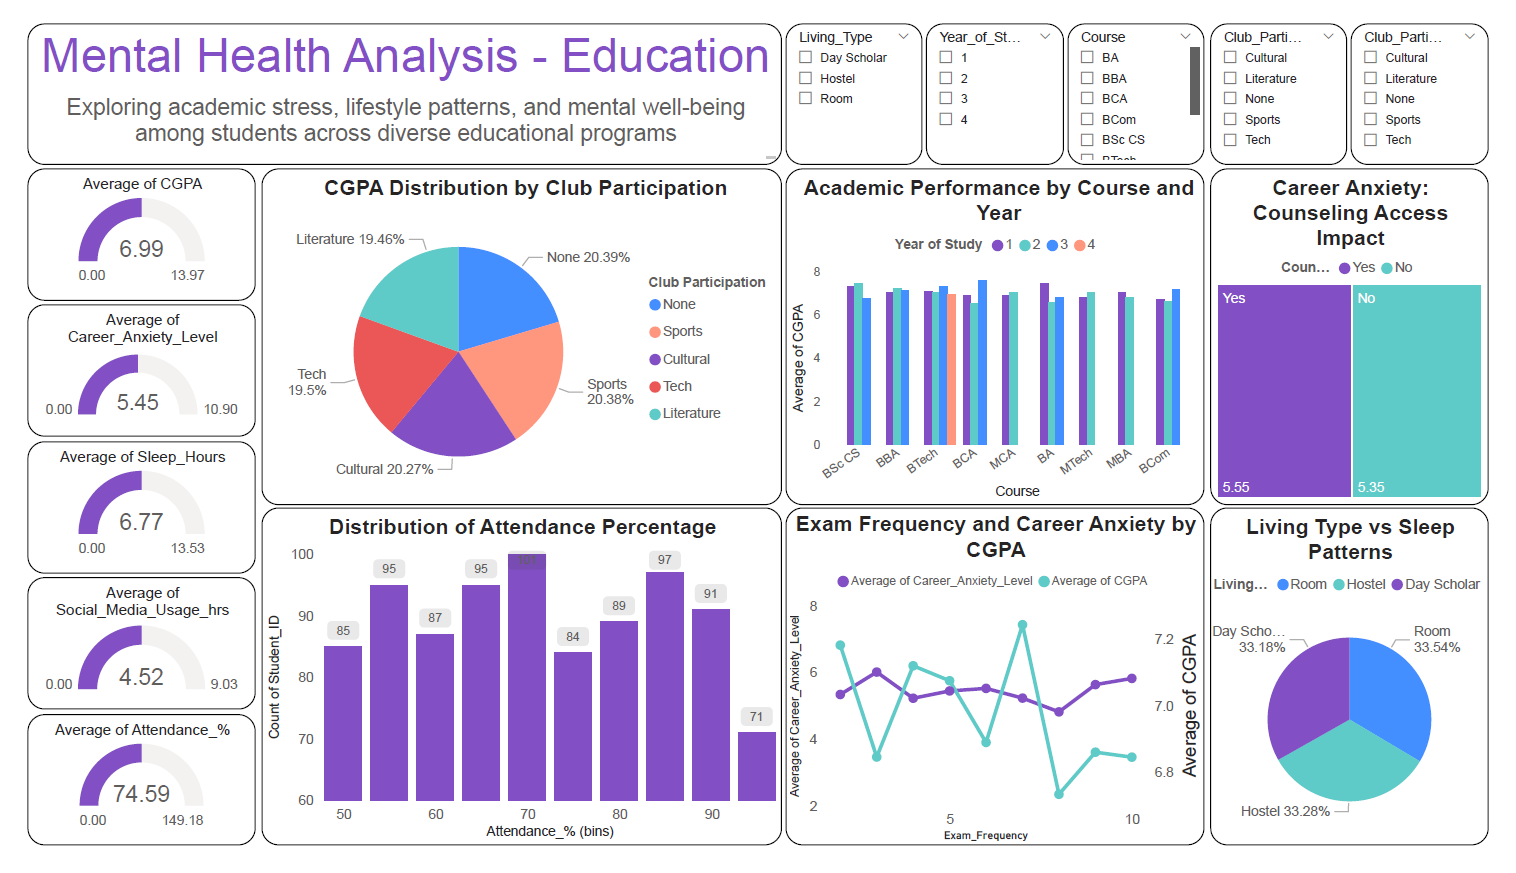

This screenshot's page, from the dashboard's own definition file:
{"tool":"powerbi","page":{"name":"Page 1","canvas":[1280,720],"ordinal":0},"visuals":[{"type":"gauge","fields":{"Y":["Avg(Education_Dataset.CGPA)"]},"box":[0,127,200.3,116],"z":0},{"type":"gauge","fields":{"Y":["Avg(Education_Dataset.Career_Anxiety_Level)"]},"box":[0,246,200.3,116],"z":1000},{"type":"gauge","fields":{"Y":["Avg(Education_Dataset.Sleep_Hours)"]},"box":[0,366,200,116],"z":2000},{"type":"gauge","fields":{"Y":["Avg(Education_Dataset.Social_Media_Usage_hrs)"]},"box":[0,485,200.3,116],"z":3000},{"type":"slicer","fields":{"Values":["Education_Dataset.Course"]},"box":[910.6,0,120.7,124.4],"z":4000},{"type":"slicer","fields":{"Values":["Education_Dataset.Year_of_Study"]},"box":[787.4,0,120.7,124.4],"z":5000},{"type":"slicer","fields":{"Values":["Education_Dataset.Living_Type"]},"box":[664,0,120,124.4],"z":6000},{"type":"textbox","title":"Mental Health Analysis - Education","box":[0,0,660.5,124.4],"z":7000},{"type":"slicer","fields":{"Values":["Education_Dataset.Club_Participation"]},"box":[1036.2,0,119.4,124.4],"z":8000},{"type":"pieChart","title":"CGPA Distribution by Club Participation","fields":{"Category":["Education_Dataset.Club_Participation"],"Y":["Avg(Education_Dataset.CGPA)"]},"box":[205.3,126.9,455.3,295],"z":10000},{"type":"columnChart","title":"Distribution of Attendance Percentage","fields":{"Y":["CountNonNull(Education_Dataset.Student_ID)"],"Category":["Education_Dataset.Attendance_% (bins)"]},"box":[205,424,456,296],"z":11000},{"type":"gauge","fields":{"Y":["Avg(Education_Dataset.Attendance_%)"]},"box":[0,604.6,200.3,115.7],"z":13000},{"type":"slicer","fields":{"Values":["Education_Dataset.Club_Participation"]},"box":[1159.4,0,120.7,124.4],"z":13001},{"type":"clusteredColumnChart","title":"Academic Performance by Course and Year","fields":{"Category":["Education_Dataset.Course"],"Y":["Avg(Education_Dataset.CGPA)"],"Series":["Education_Dataset.Year_of_Study"]},"box":[664.3,126.9,367,294.8],"z":13002},{"type":"lineChart","title":"Exam Frequency and Career Anxiety by CGPA","fields":{"Category":["Education_Dataset.Exam_Frequency"],"Y":["Avg(Education_Dataset.Career_Anxiety_Level)"],"Y2":["Avg(Education_Dataset.CGPA)"]},"box":[664.3,424.2,367,296.1],"z":13003},{"type":"treemap","title":"Career Anxiety: Counseling Access Impact","fields":{"Group":["Education_Dataset.Counseling_Access"],"Values":["Avg(Education_Dataset.Career_Anxiety_Level)"]},"box":[1036.2,126.9,243.8,294.8],"z":13004},{"type":"pieChart","title":"Living Type vs Sleep Patterns","fields":{"Category":["Education_Dataset.Living_Type"],"Y":["Avg(Education_Dataset.Sleep_Hours)"]},"box":[1036.2,424.2,243.8,296.1],"z":13005}]}

Visuals, with their boxes in screenshot pixels (x1, y1, x2, y2), scaled from the page's 1280x720 canvas onto the 1516x873 screenshot:
gauge - Avg(Education_Dataset.CGPA): 0 154 237 295
gauge - Avg(Education_Dataset.Career_Anxiety_Level): 0 298 237 439
gauge - Avg(Education_Dataset.Sleep_Hours): 0 444 237 584
gauge - Avg(Education_Dataset.Social_Media_Usage_hrs): 0 588 237 729
slicer - Education_Dataset.Course: 1078 0 1221 151
slicer - Education_Dataset.Year_of_Study: 933 0 1076 151
slicer - Education_Dataset.Living_Type: 786 0 929 151
"Mental Health Analysis - Education" textbox: 0 0 782 151
slicer - Education_Dataset.Club_Participation: 1227 0 1369 151
"CGPA Distribution by Club Participation" pieChart: 243 154 782 512
"Distribution of Attendance Percentage" columnChart: 243 514 783 872
gauge - Avg(Education_Dataset.Attendance_%): 0 733 237 872
slicer - Education_Dataset.Club_Participation: 1373 0 1515 151
"Academic Performance by Course and Year" clusteredColumnChart: 787 154 1221 511
"Exam Frequency and Career Anxiety by CGPA" lineChart: 787 514 1221 872
"Career Anxiety: Counseling Access Impact" treemap: 1227 154 1515 511
"Living Type vs Sleep Patterns" pieChart: 1227 514 1515 872
